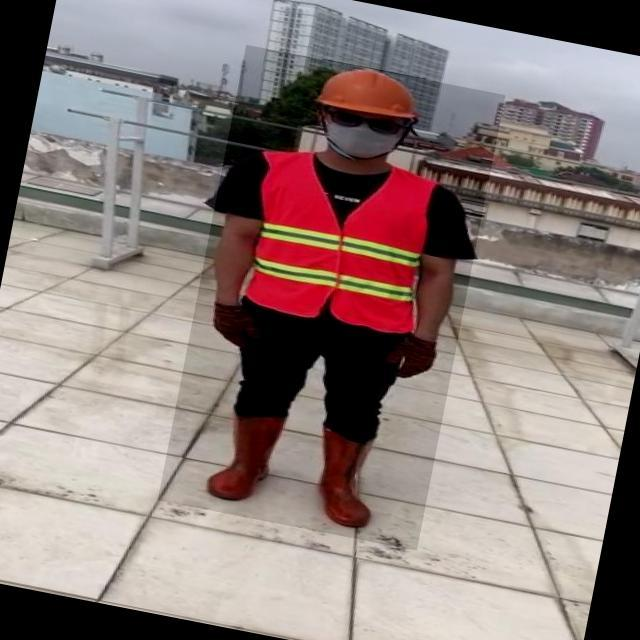Gloves: (382, 333, 441, 383), (206, 301, 265, 351)
Helmet: (316, 59, 427, 126)
Human: (158, 45, 506, 551)
Safety Boot: (302, 425, 389, 531), (206, 408, 279, 508)
Safety Vest: (230, 144, 440, 337)
